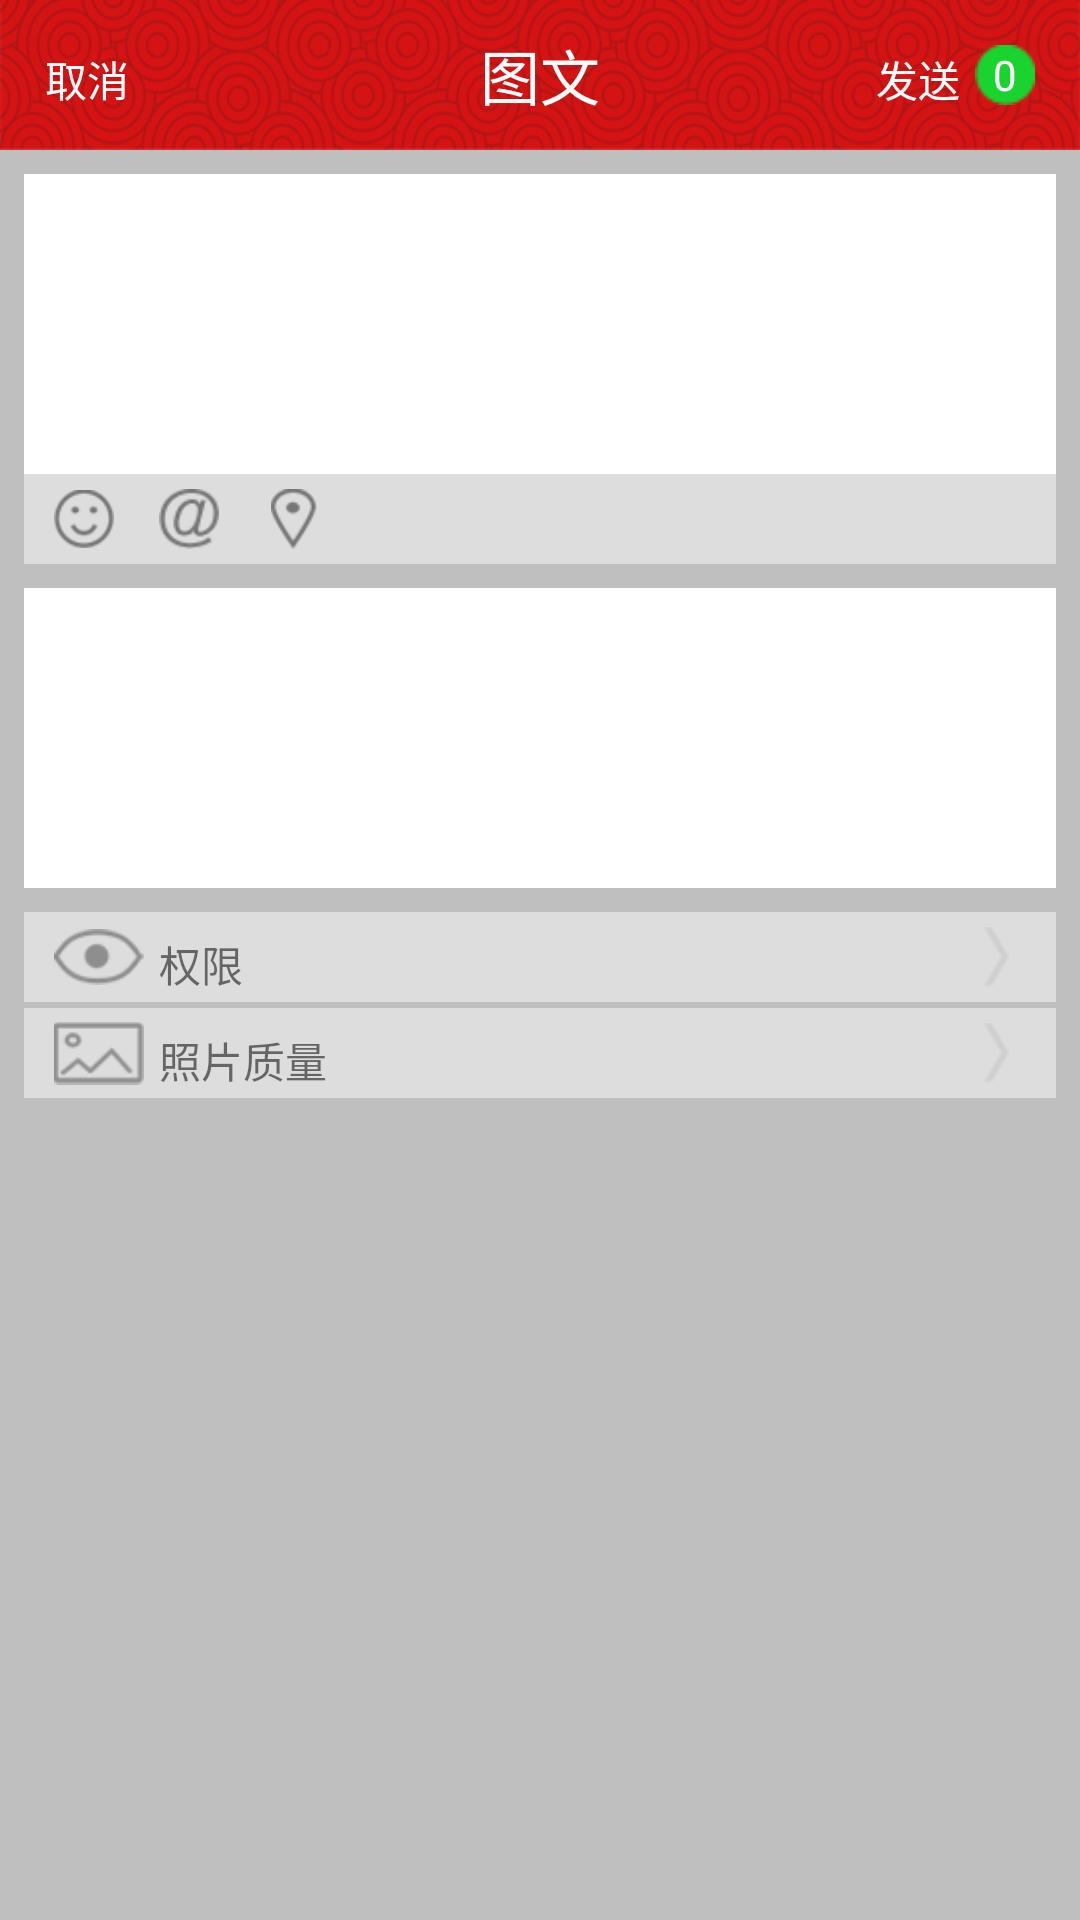

Screen size 1080 x 1920. Icon name, then its box in pixels as (x1, y1, x2, y2):
publish text expression: (54, 490, 114, 548)
publish text location: (271, 489, 316, 549)
